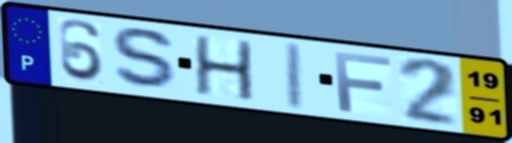2: (395, 56, 462, 129)
6: (57, 18, 105, 86)
F: (331, 50, 395, 115)
H: (191, 34, 258, 104)
I: (283, 40, 308, 113)
S: (108, 25, 183, 92)
